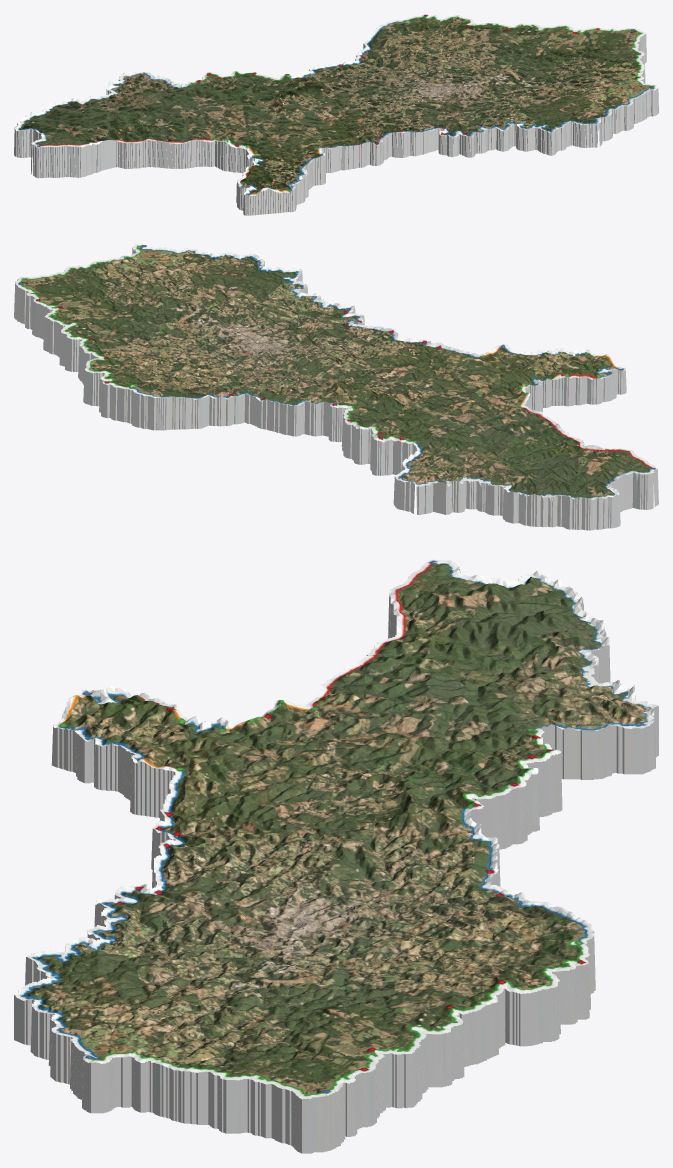
3 views of the same model, one above another, from view 1: azimuth 30°, elevation 25°; view 2: azimuth 150°, elevation 25°; view 3: azimuth 270°, elevation 25° (orthographic). The views are drawn at different scales.
Size of the model in its own units: 0.9969 by 0.054 by 0.5065.
Materials: 1 (1 with a texture image).
